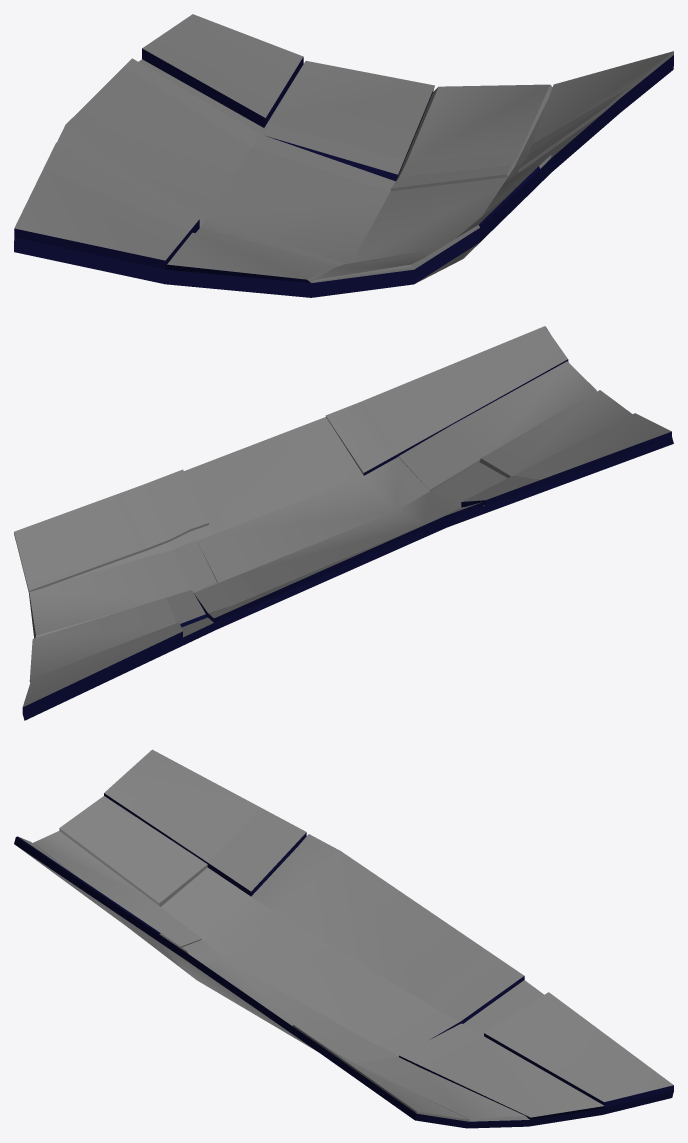
The model's file is banderaotravez (1).fbx.
3 renders of one model, top to bottom at view 1: azimuth 30°, elevation 25°; view 2: azimuth 150°, elevation 25°; view 3: azimuth 270°, elevation 25°, orthographic. The views are drawn at different scales.
Visible parts, largest first — view 1: Sail2_low; view 2: Sail2_low; view 3: Sail2_low.
Part boxes in pixels (x1=…): Sail2_low: x1=14, y1=14, x2=673, y2=297; Sail2_low: x1=14, y1=326, x2=673, y2=720; Sail2_low: x1=14, y1=749, x2=673, y2=1128.
Bounding box in the file's own units: 656 × 231 × 754.
